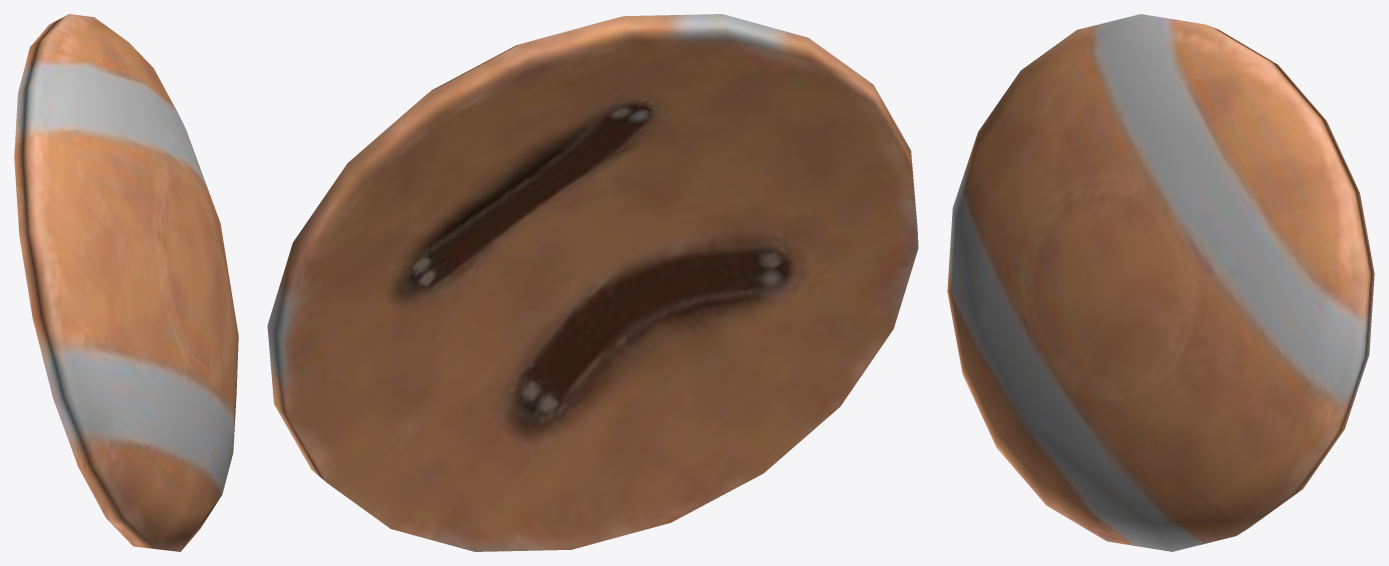
The model's file is rider-shield-slice-coppershields.glb.
The picture shows the model from 3 angles, left to right: view 1: azimuth 30°, elevation 25°; view 2: azimuth 150°, elevation 25°; view 3: azimuth 270°, elevation 25°; orthographic projection. The views are drawn at different scales.
Size of the model in its own units: 0.3006 by 0.4057 by 0.3349.
Materials: 1 (1 with a texture image).
